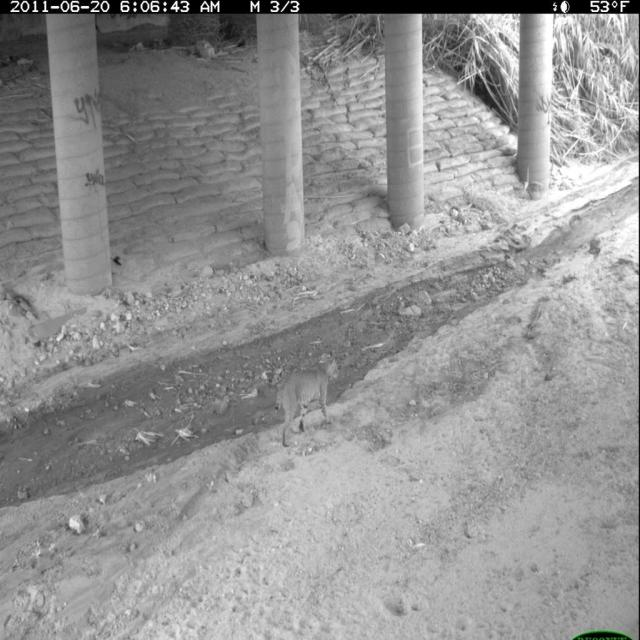bobcat: (273, 347, 343, 452)
